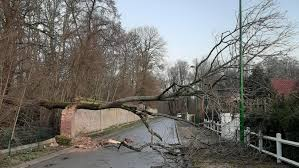obstacle: (32, 92, 258, 166)
